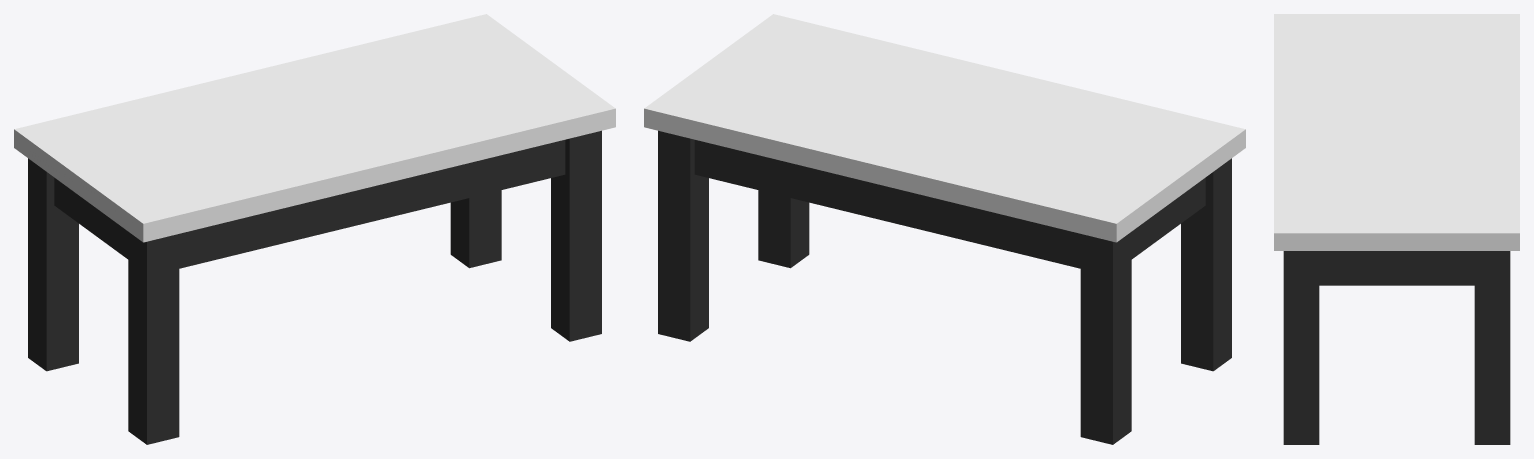
The model's file is Table_4A.fbx.
3 views of the same model, side by side, from view 1: azimuth 30°, elevation 25°; view 2: azimuth 150°, elevation 25°; view 3: azimuth 270°, elevation 25° (orthographic). The views are drawn at different scales.
Visible parts, largest first — view 1: polySurface1515; view 2: polySurface1515; view 3: polySurface1515.
Part boxes in pixels (box(x1,y1,x2,y2)): polySurface1515: box(14, 14, 615, 444); polySurface1515: box(644, 14, 1245, 444); polySurface1515: box(1274, 14, 1519, 444).
Bounding box in the file's own units: 1.9 × 0.872 × 0.9.
Materials: 1 (1 with a texture image).
